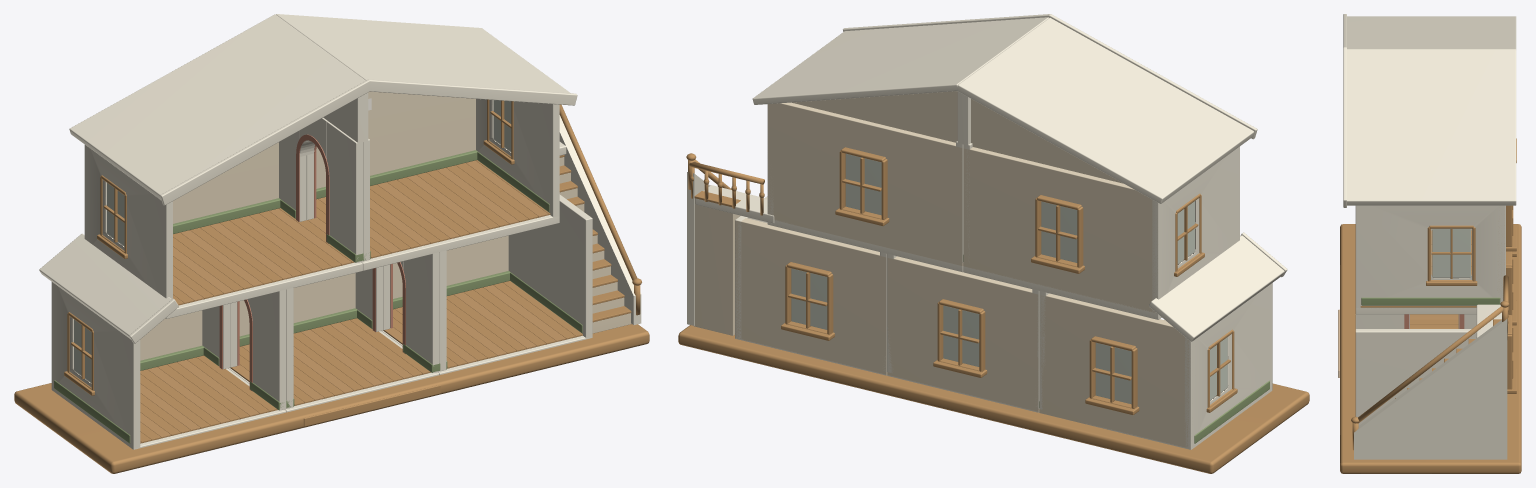
The model's file is memory-house.glb.
The picture shows the model from 3 angles, left to right: view 1: azimuth 30°, elevation 25°; view 2: azimuth 150°, elevation 25°; view 3: azimuth 270°, elevation 25°; orthographic projection. The views are drawn at different scales.
Parts seen in each view (by area): view 1: Cream pitched roof, room_memories / Cream painted wood, Oak house foundation, room_beginning / Cream painted wood, Cream pitched roof.001, room_little-things / Cream painted wood, room_next-chapter / Cream painted wood, room_memories / Pale oak.001, room_next-chapter / Pale oak.001, room_next-chapter / Warm cream plaster, room_first / Cream painted wood, room_beginning / Pale oak.001 (+28 smaller); view 2: Cream pitched roof, room_next-chapter / Warm cream plaster, room_memories / Warm cream plaster, room_little-things / Warm cream plaster, room_first / Warm cream plaster, room_beginning / Warm cream plaster, Oak house foundation, Cream pitched roof.001, room_memories / Cream painted wood, room_beginning / Cream painted wood, Cream rear gable, Left wing sloped roof (+20 smaller); view 3: Cream pitched roof.001, Cream stair parapet, room_next-chapter / Cream painted wood, Oak house foundation, room_little-things / Cream painted wood, Cream pitched roof, room_next-chapter / Pale oak.001, room_next-chapter / Frosted window glass, room_next-chapter / Sage skirting, room_first / Pale oak.001, Oak stair handrail, Cream front roof fascia.001 (+3 smaller).
Boxes of the visible parts, left/top/right/bottom form: Cream pitched roof: left=69, top=14, right=365, bottom=200; room_memories / Cream painted wood: left=84, top=117, right=362, bottom=318; Oak house foundation: left=14, top=324, right=649, bottom=473; room_beginning / Cream painted wood: left=51, top=282, right=286, bottom=449; Cream pitched roof.001: left=276, top=14, right=570, bottom=93; room_little-things / Cream painted wood: left=381, top=194, right=592, bottom=374; room_next-chapter / Cream painted wood: left=306, top=99, right=559, bottom=270; room_memories / Pale oak.001: left=97, top=175, right=354, bottom=305; room_next-chapter / Pale oak.001: left=316, top=99, right=550, bottom=258; room_next-chapter / Warm cream plaster: left=316, top=91, right=475, bottom=188; room_first / Cream painted wood: left=228, top=252, right=439, bottom=412; room_beginning / Pale oak.001: left=64, top=312, right=277, bottom=443; Cream pitched roof: left=957, top=18, right=1254, bottom=203; room_next-chapter / Warm cream plaster: left=767, top=102, right=963, bottom=265; room_memories / Warm cream plaster: left=963, top=147, right=1158, bottom=313; room_little-things / Warm cream plaster: left=735, top=218, right=887, bottom=375; room_first / Warm cream plaster: left=887, top=256, right=1039, bottom=412; room_beginning / Warm cream plaster: left=1039, top=293, right=1190, bottom=448; Oak house foundation: left=678, top=325, right=1309, bottom=473; Cream pitched roof.001: left=752, top=17, right=1048, bottom=104; room_memories / Cream painted wood: left=963, top=143, right=1239, bottom=319; room_beginning / Cream painted wood: left=1039, top=283, right=1272, bottom=449; Cream rear gable: left=792, top=91, right=1123, bottom=183; Left wing sloped roof: left=1149, top=235, right=1284, bottom=341; Cream pitched roof.001: left=1347, top=50, right=1516, bottom=205; Cream stair parapet: left=1354, top=319, right=1507, bottom=459; room_next-chapter / Cream painted wood: left=1355, top=205, right=1505, bottom=314; Oak house foundation: left=1340, top=224, right=1521, bottom=473; room_little-things / Cream painted wood: left=1355, top=314, right=1476, bottom=425; Cream pitched roof: left=1347, top=16, right=1516, bottom=49; room_next-chapter / Pale oak.001: left=1360, top=205, right=1516, bottom=307; room_next-chapter / Frosted window glass: left=1432, top=229, right=1470, bottom=277; room_next-chapter / Sage skirting: left=1361, top=297, right=1500, bottom=305; room_first / Pale oak.001: left=1410, top=251, right=1516, bottom=328; Oak stair handrail: left=1357, top=306, right=1503, bottom=423; Cream front roof fascia.001: left=1343, top=47, right=1346, bottom=207.
Bounding box in the file's own units: 9.85 × 5.78 × 3.17.
